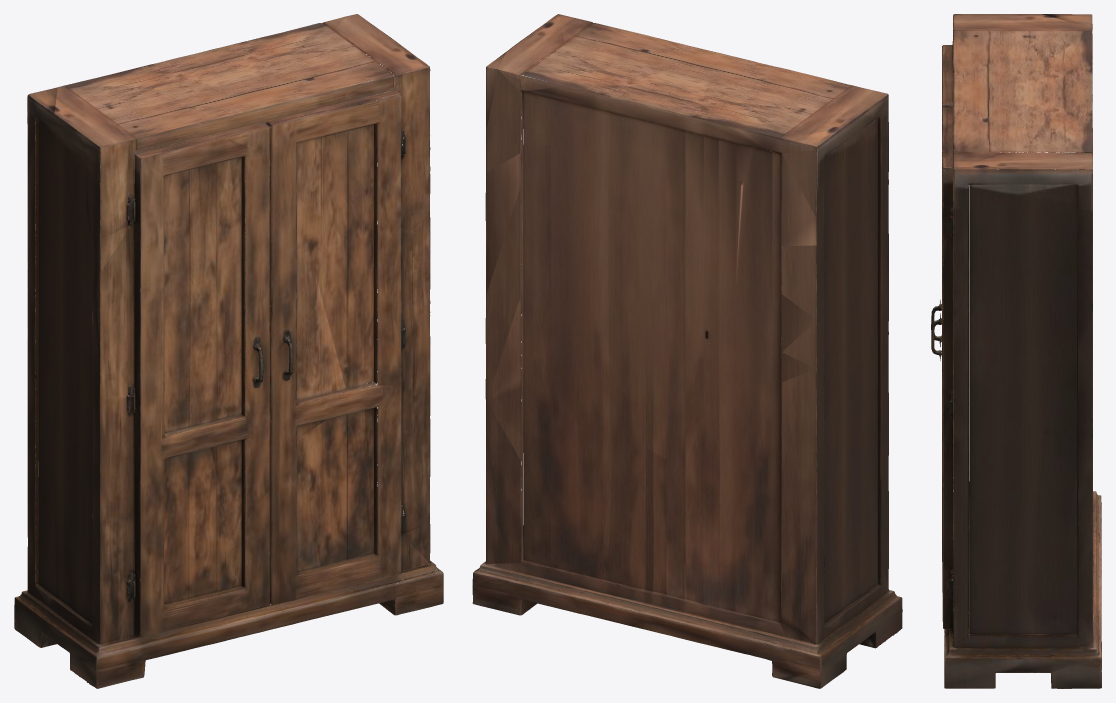
File: OldWardrobe.glb
The picture shows the model from 3 angles, left to right: view 1: azimuth 30°, elevation 25°; view 2: azimuth 150°, elevation 25°; view 3: azimuth 270°, elevation 25°; orthographic projection. The views are drawn at different scales.
Visible parts, largest first — view 1: OldWardrobe; view 2: OldWardrobe; view 3: OldWardrobe.
Part boxes in pixels (bbox=[...]): OldWardrobe: bbox=[14, 14, 443, 688]; OldWardrobe: bbox=[472, 14, 902, 688]; OldWardrobe: bbox=[931, 14, 1101, 688].
Size of the model in its own units: 1.36 by 2 by 0.6.
Materials: 1 (1 with a texture image).
